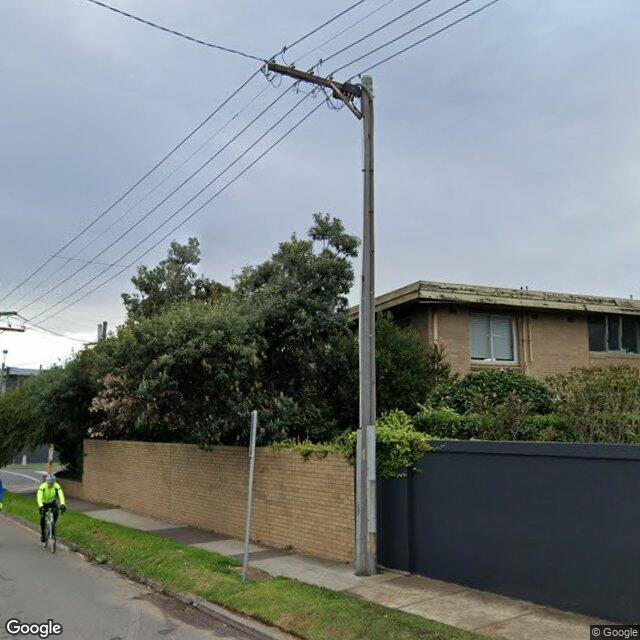crossarm: (259, 46, 363, 112), (0, 324, 26, 333), (0, 310, 19, 317)
timber-pole: (353, 75, 378, 576)
